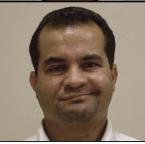strokeEyeWeak: (45, 54, 105, 76)
strokeMouthWeak: (57, 90, 99, 105)
